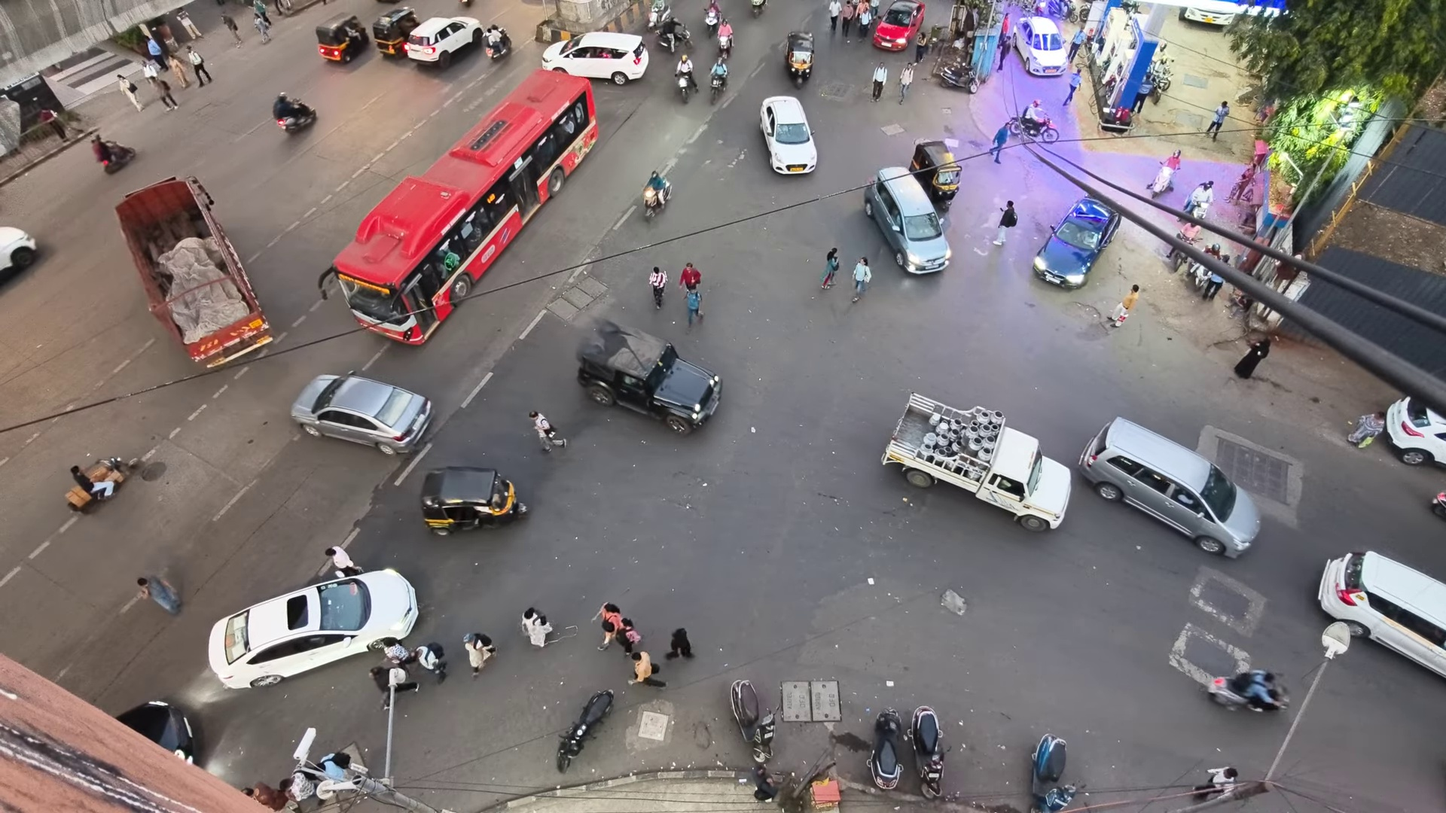driving: (319, 71, 597, 344), (115, 177, 271, 366), (881, 393, 1070, 531), (1079, 417, 1259, 557), (208, 569, 417, 687), (578, 322, 720, 434), (1317, 551, 1445, 674), (291, 374, 432, 454), (863, 166, 951, 273), (1033, 197, 1121, 288), (420, 466, 527, 535), (541, 33, 649, 85), (116, 701, 198, 763), (556, 690, 613, 772), (760, 96, 817, 174), (1385, 397, 1445, 465), (66, 457, 140, 512), (406, 17, 483, 68), (729, 680, 775, 764), (909, 139, 961, 211), (908, 705, 948, 798), (1030, 735, 1076, 812), (1014, 17, 1066, 75), (868, 708, 902, 790), (871, 0, 925, 50), (316, 13, 368, 62), (371, 6, 419, 57), (0, 226, 38, 281), (93, 134, 136, 174), (785, 31, 815, 87), (1179, 0, 1242, 26), (273, 95, 316, 133), (939, 59, 984, 93), (1007, 116, 1060, 143), (657, 19, 690, 53), (642, 181, 670, 218), (484, 26, 512, 59), (647, 0, 673, 29), (710, 72, 726, 104), (1430, 492, 1446, 520), (750, 0, 765, 16)
walking: (370, 665, 419, 709), (137, 575, 181, 614), (1234, 336, 1271, 378), (1194, 766, 1237, 801), (463, 633, 496, 678), (529, 411, 566, 451), (70, 465, 114, 498), (279, 770, 316, 809), (1347, 412, 1386, 447), (413, 643, 446, 684), (629, 652, 665, 687), (243, 782, 288, 810), (521, 607, 552, 647), (1109, 285, 1137, 326), (186, 45, 213, 86), (598, 603, 621, 650), (325, 547, 362, 576), (994, 200, 1017, 245), (752, 765, 779, 801), (117, 74, 142, 111), (382, 637, 415, 665), (38, 108, 66, 141), (618, 617, 642, 654), (852, 257, 871, 303), (1131, 75, 1154, 113), (665, 628, 693, 659), (1206, 101, 1228, 139), (989, 123, 1009, 163), (176, 9, 203, 38), (821, 248, 839, 289), (649, 266, 666, 309), (221, 14, 242, 47), (685, 288, 701, 330), (1063, 68, 1081, 105), (840, 0, 856, 41), (1067, 26, 1085, 62), (871, 62, 887, 102), (1203, 271, 1224, 300), (857, 2, 873, 39), (997, 32, 1012, 70), (679, 262, 700, 289), (900, 63, 913, 104), (142, 61, 160, 90), (147, 35, 164, 65), (252, 0, 271, 26), (827, 0, 842, 32), (915, 28, 929, 62), (253, 15, 270, 43)
